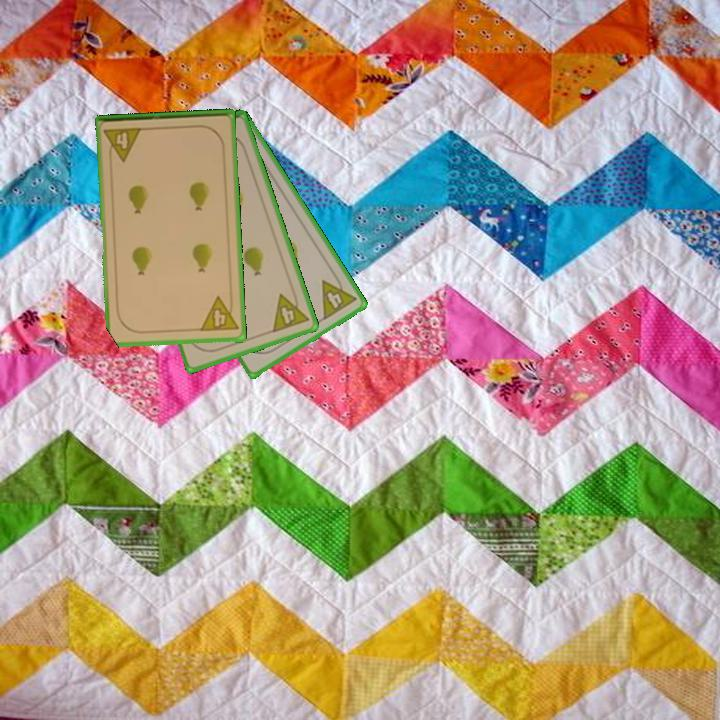4p: (318, 270, 360, 323), (268, 286, 312, 336), (196, 294, 241, 335), (100, 124, 145, 165)
